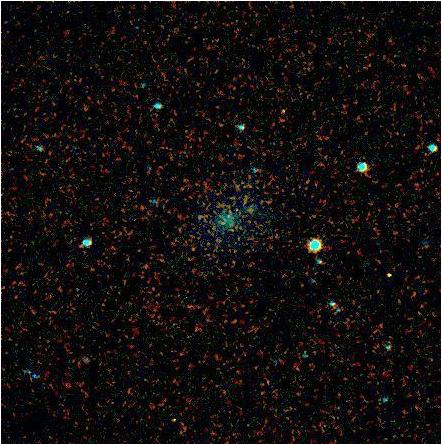star: (371, 257, 401, 287)
